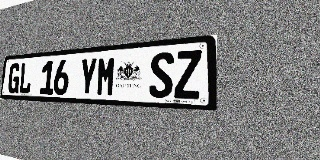1: (39, 60, 55, 95)
6: (53, 59, 70, 95)
G: (7, 63, 21, 94)
L: (18, 62, 33, 94)
M: (96, 56, 116, 96)
S: (149, 52, 174, 98)
Y: (78, 57, 97, 96)
Z: (174, 50, 202, 99)
